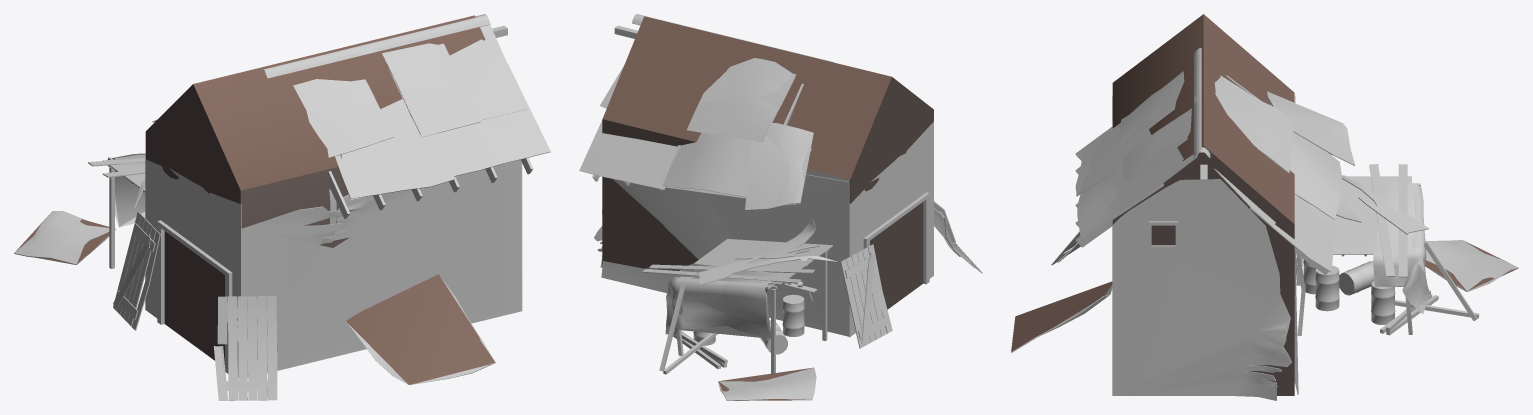
File: ut_old_shed.DAE
3 renders of one model, left to right at view 1: azimuth 30°, elevation 25°; view 2: azimuth 150°, elevation 25°; view 3: azimuth 270°, elevation 25°, orthographic. The views are drawn at different scales.
Visible parts, largest first — view 1: shed_bld_c700, shed_bld_c50, shed_bld_c300, shed_bld_c100; view 2: shed_bld_c300, shed_bld_c50, shed_bld_c700, shed_bld_c100; view 3: shed_bld_c300, shed_bld_c50, shed_bld_c100, shed_bld_c700.
Part boxes in pixels (x1,y1,x2,y2): shed_bld_c700: (14, 14, 550, 400); shed_bld_c50: (15, 15, 495, 384); shed_bld_c300: (14, 14, 550, 398); shed_bld_c100: (112, 14, 546, 237); shed_bld_c300: (601, 14, 980, 400); shed_bld_c50: (602, 16, 933, 400); shed_bld_c700: (579, 15, 982, 400); shed_bld_c100: (579, 14, 848, 369); shed_bld_c300: (1053, 50, 1517, 396); shed_bld_c50: (1011, 14, 1517, 395); shed_bld_c100: (1076, 54, 1427, 400); shed_bld_c700: (1011, 48, 1518, 400).
Size of the model in its own units: 8.79 by 11.28 by 6.33.
